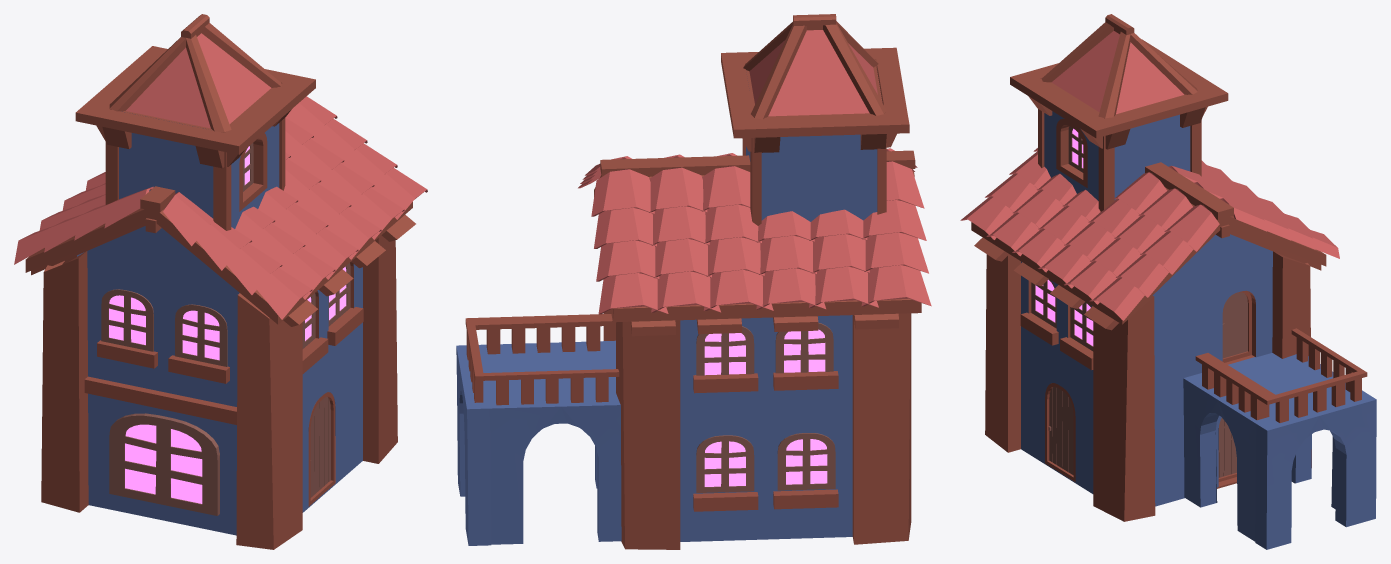
File: House.fbx
The picture shows the model from 3 angles, left to right: view 1: azimuth 30°, elevation 25°; view 2: azimuth 150°, elevation 25°; view 3: azimuth 270°, elevation 25°; orthographic projection. The views are drawn at different scales.
Visible parts, largest first — view 1: Tembok, ATAP, ATAS, Kubah atas, Jendela GEDE, Pondasi kubah, JENDELA, Bawah Jendela, PONDASI ATAP 2, PINTU UTAMA, Pondasi ATAP, KAYU Atas; view 2: Tembok, ATAP, Balkon, JENDELA, ATAS, Kubah atas, Pondasi kubah, Pagar Balkon, Bawah Jendela, PONDASI ATAP 2, Pondasi ATAP, KAYU Atas; view 3: Tembok, ATAP, Balkon, ATAS, Kubah atas, Pagar Balkon, Pondasi kubah, PONDASI ATAP 2, PINTU UTAMA, JENDELA, Pondasi ATAP, Pintu atas (+3 smaller).
Part boxes in pixels (left/top/right/bottom): Tembok: left=41, top=226, right=397, bottom=549; ATAP: left=14, top=96, right=427, bottom=319; ATAS: left=105, top=83, right=285, bottom=230; Kubah atas: left=109, top=23, right=281, bottom=132; Jendela GEDE: left=109, top=413, right=219, bottom=515; Pondasi kubah: left=75, top=46, right=315, bottom=168; JENDELA: left=101, top=143, right=350, bottom=366; Bawah Jendela: left=84, top=307, right=363, bottom=424; PONDASI ATAP 2: left=25, top=202, right=412, bottom=324; PINTU UTAMA: left=308, top=392, right=335, bottom=506; Pondasi ATAP: left=31, top=214, right=415, bottom=326; KAYU Atas: left=140, top=186, right=175, bottom=212; Tembok: left=603, top=308, right=911, bottom=549; ATAP: left=578, top=148, right=931, bottom=314; Balkon: left=456, top=340, right=621, bottom=545; JENDELA: left=696, top=322, right=835, bottom=492; ATAS: left=742, top=60, right=886, bottom=225; Kubah atas: left=743, top=21, right=886, bottom=119; Pondasi kubah: left=721, top=47, right=909, bottom=152; Pagar Balkon: left=465, top=314, right=619, bottom=405; Bawah Jendela: left=693, top=371, right=838, bottom=511; PONDASI ATAP 2: left=594, top=169, right=921, bottom=322; Pondasi ATAP: left=630, top=171, right=914, bottom=336; KAYU Atas: left=600, top=150, right=915, bottom=176; Tembok: left=985, top=234, right=1311, bottom=521; ATAP: left=960, top=148, right=1339, bottom=320; Balkon: left=1183, top=353, right=1376, bottom=549; ATAS: left=1038, top=78, right=1201, bottom=211; Kubah atas: left=1041, top=22, right=1197, bottom=118; Pagar Balkon: left=1195, top=328, right=1367, bottom=422; Pondasi kubah: left=1010, top=39, right=1228, bottom=149; PONDASI ATAP 2: left=971, top=187, right=1326, bottom=324; PINTU UTAMA: left=1045, top=383, right=1075, bottom=481; JENDELA: left=1031, top=126, right=1093, bottom=351; Pondasi ATAP: left=974, top=224, right=1321, bottom=330; Pintu atas: left=1222, top=290, right=1251, bottom=362.
Bounding box in the file's own units: 1191 × 1270 × 1161.
